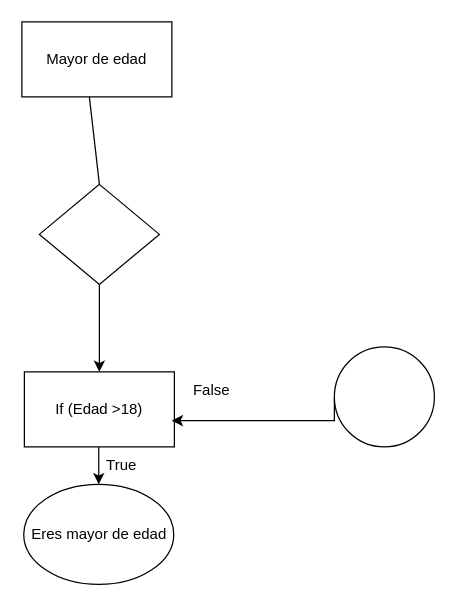
Image size: 456x606. Some labels were removed from this diagram. The shapes that lost their labels are listed below. From the top down, each one's centre as x and y in pixels, then its label:
point 98,233: Ingresa Edad
point 383,396: No eres matyor de edad
